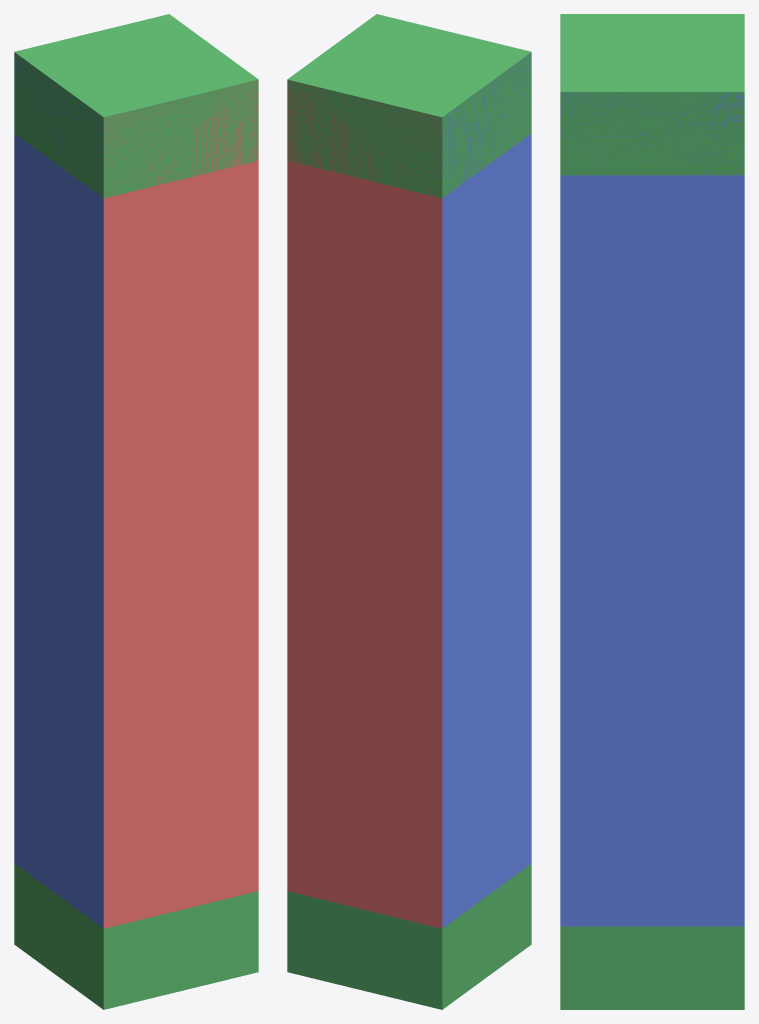
The model's file is y_init_and_meas_bridge.pipe_length_2_0.dae.
The picture shows the model from 3 angles, left to right: view 1: azimuth 30°, elevation 25°; view 2: azimuth 150°, elevation 25°; view 3: azimuth 270°, elevation 25°; orthographic projection. The views are drawn at different scales.
Visible parts, largest first — view 1: ZXO (×4), Y (×5), ZXX (×2); view 2: ZXO (×4), Y (×5), ZXX (×2); view 3: ZXO (×2), Y (×3), ZXX.
Part boxes in pixels (x1,y1,x2,y2): ZXO (×4): (14, 54, 258, 928); Y (×5): (14, 14, 258, 1009); ZXX (×2): (14, 377, 258, 603); ZXO (×4): (287, 52, 531, 928); Y (×5): (287, 14, 531, 1009); ZXX (×2): (287, 377, 531, 603); ZXO (×2): (560, 92, 744, 926); Y (×3): (560, 14, 744, 1009); ZXX: (560, 425, 744, 592).
Size of the model in its own units: 1 by 1 by 5.5.
